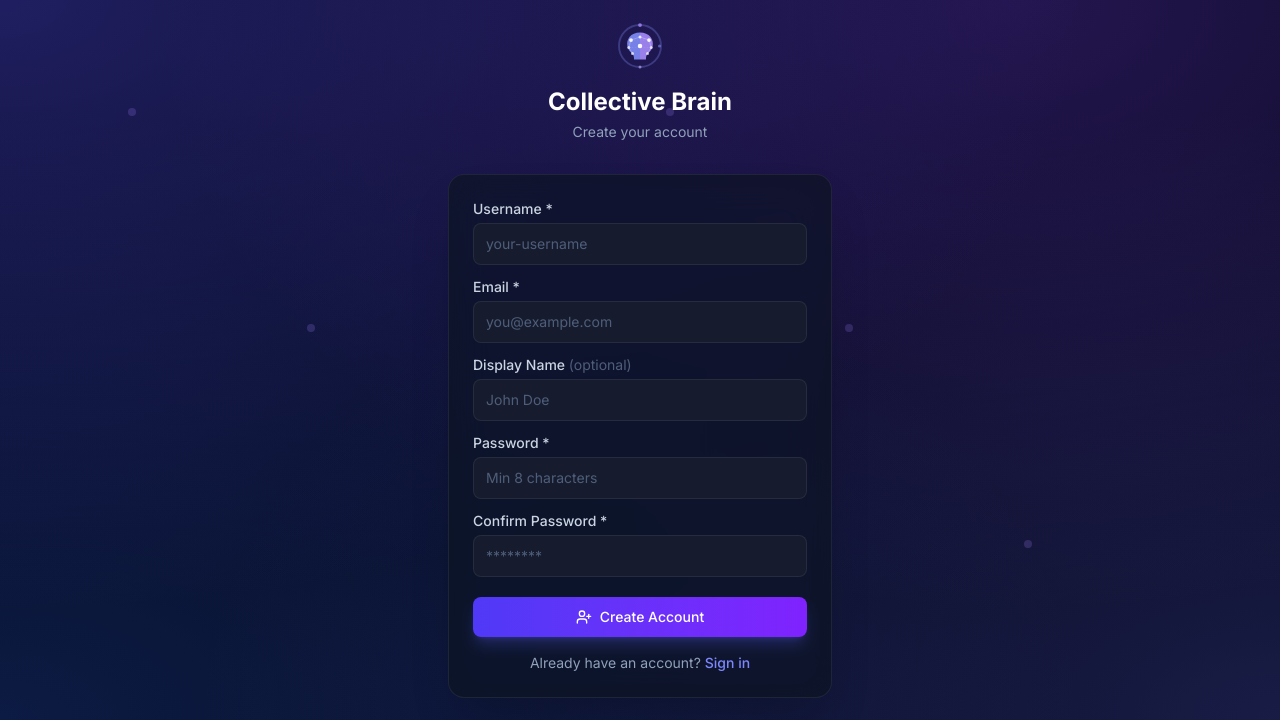
Test: RegisterPage › shows password too short error
The image size is (1280, 720).
Type "newuser" into the field with placeholder "your-username" at (640, 244), box [473, 223, 807, 265]
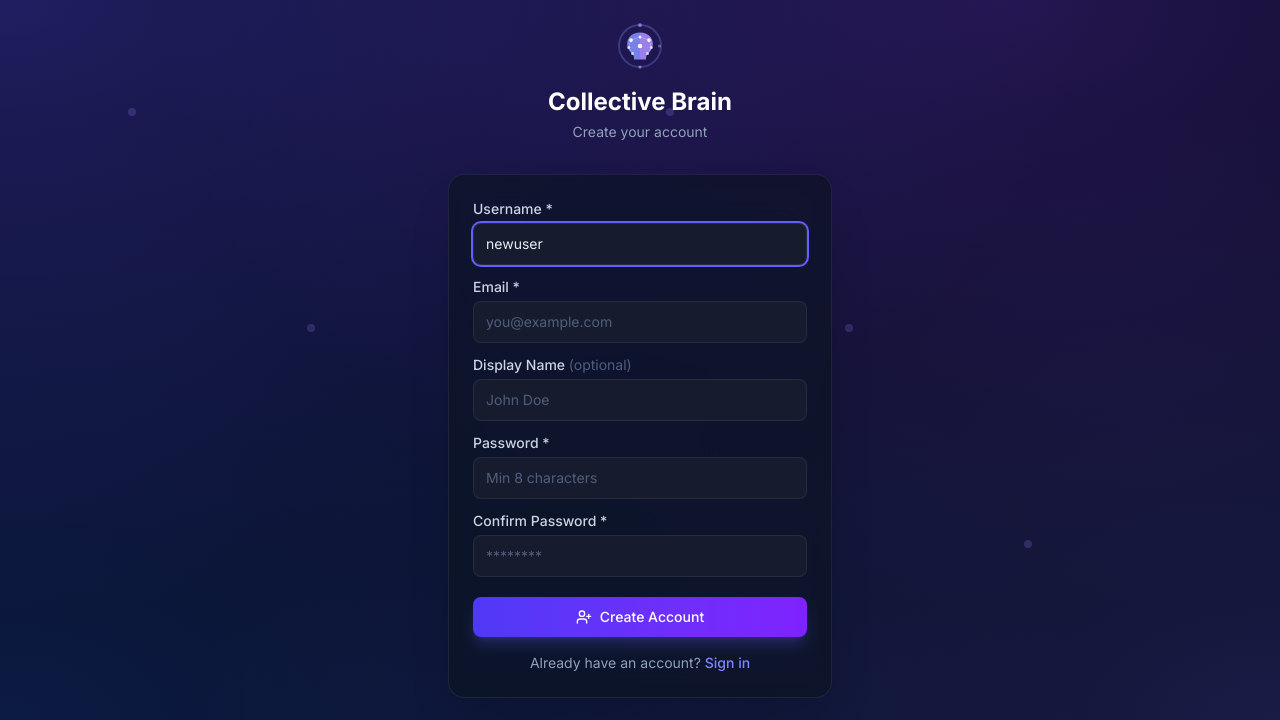
Type "new@test.com" into the field with placeholder "you@example.com" at (640, 322), box [473, 301, 807, 343]
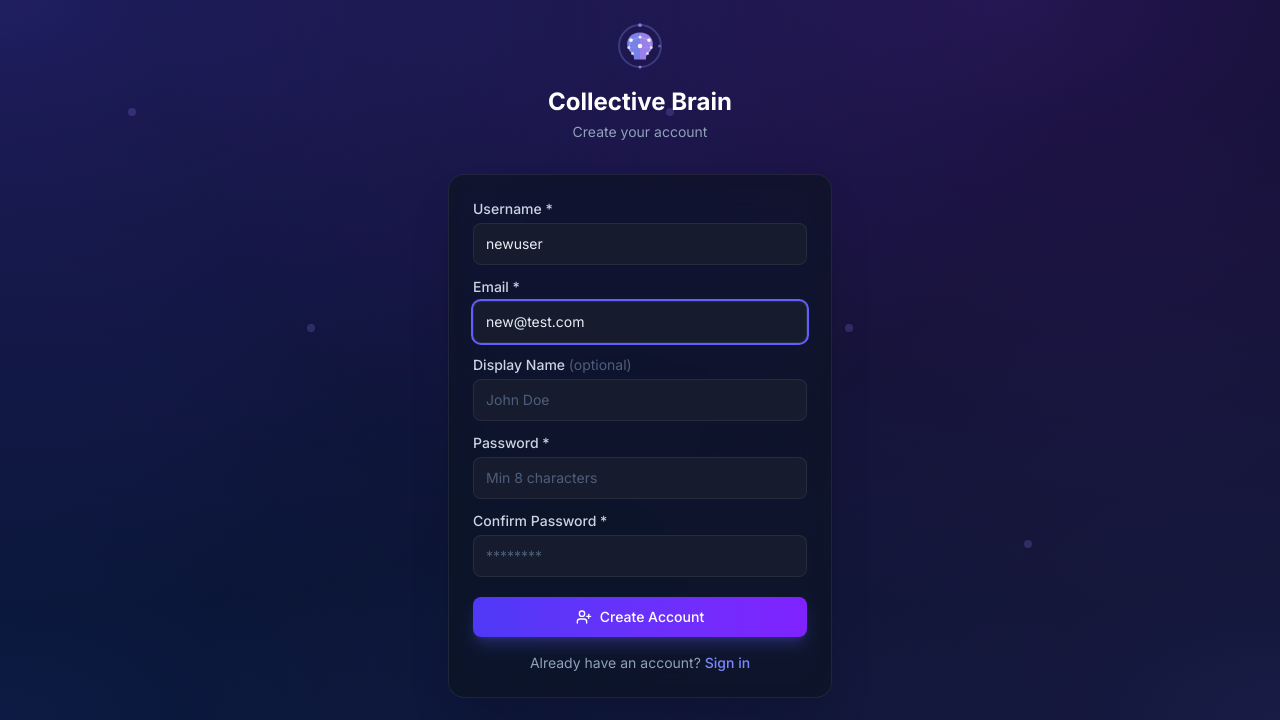
Type "short" into the password field with placeholder "Min 8 characters" at (640, 478), box [473, 457, 807, 499]
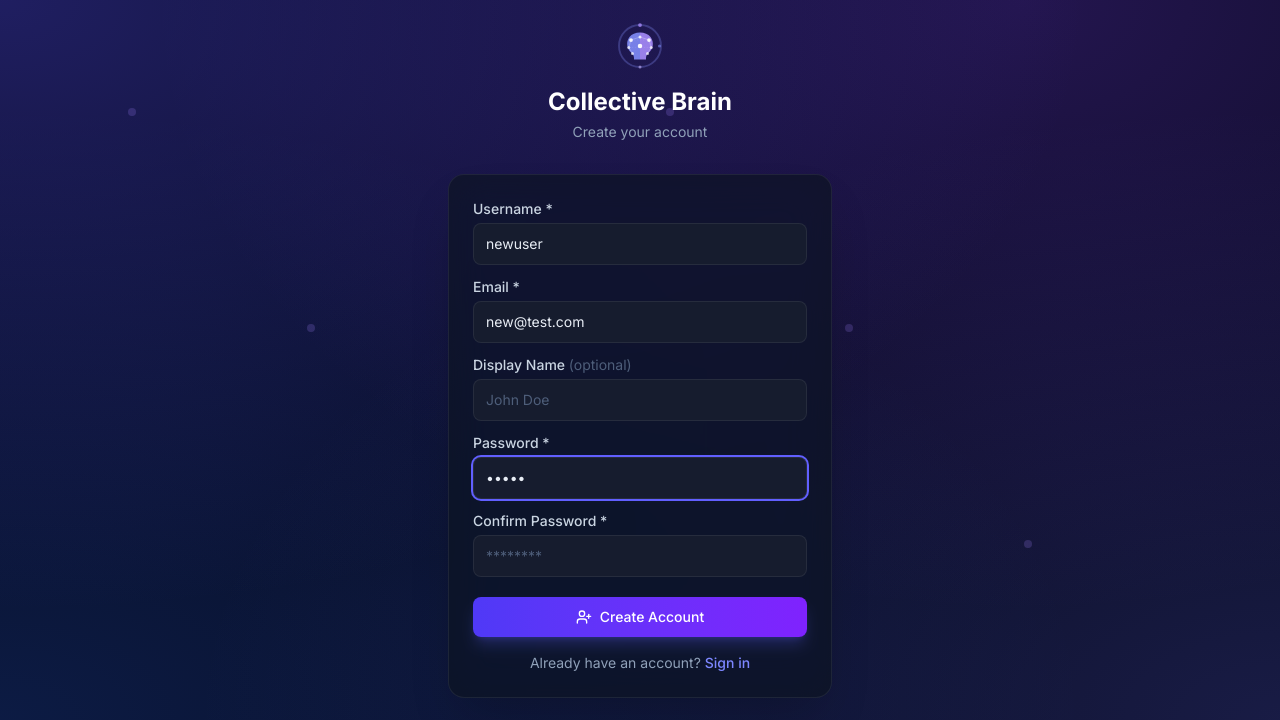
Type "short" into the password field with placeholder "********" at (640, 556), box [473, 535, 807, 577]
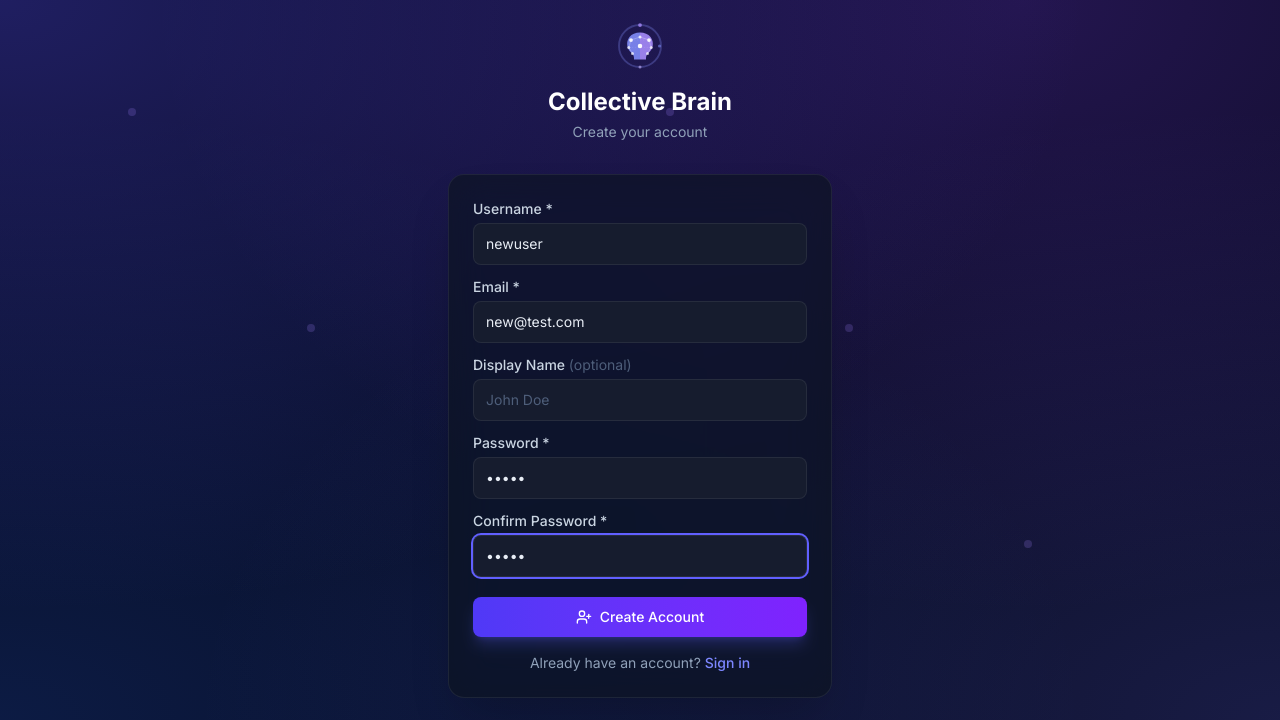
Click the button "Create Account" at (640, 617), box [473, 597, 807, 637]
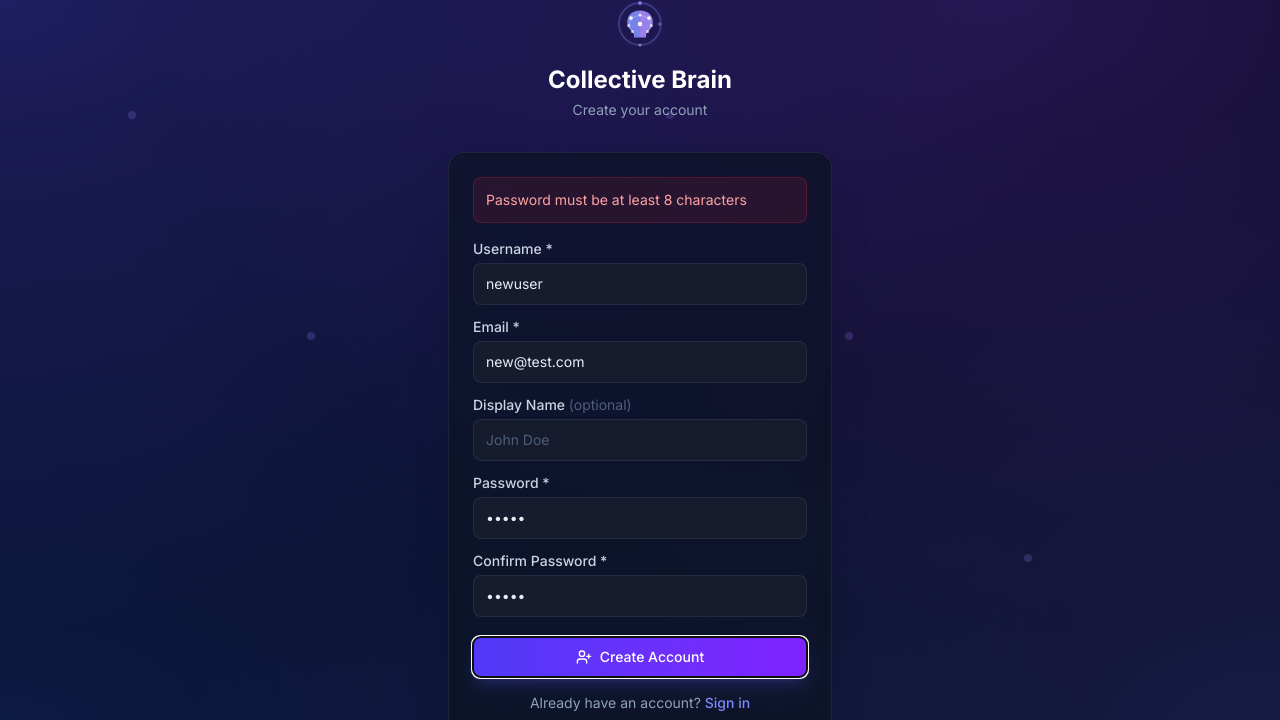
Check: the text "Password must be at least 8 characters" is shown, box [473, 177, 807, 223]
